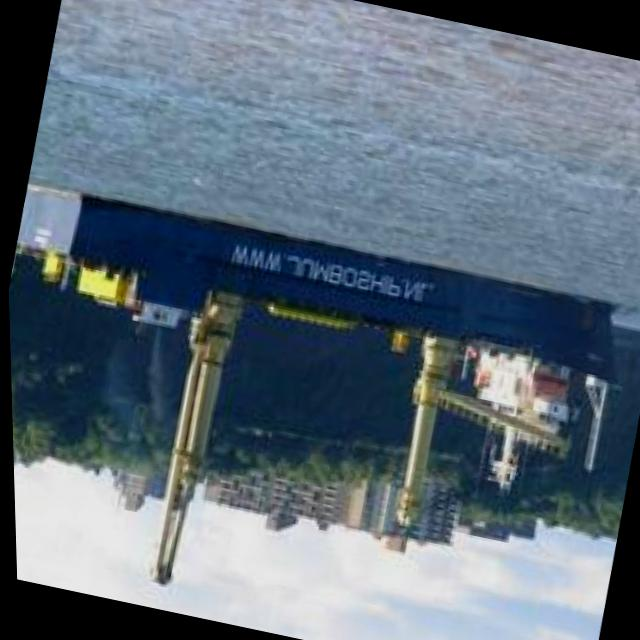ship2: (8, 185, 616, 585)
